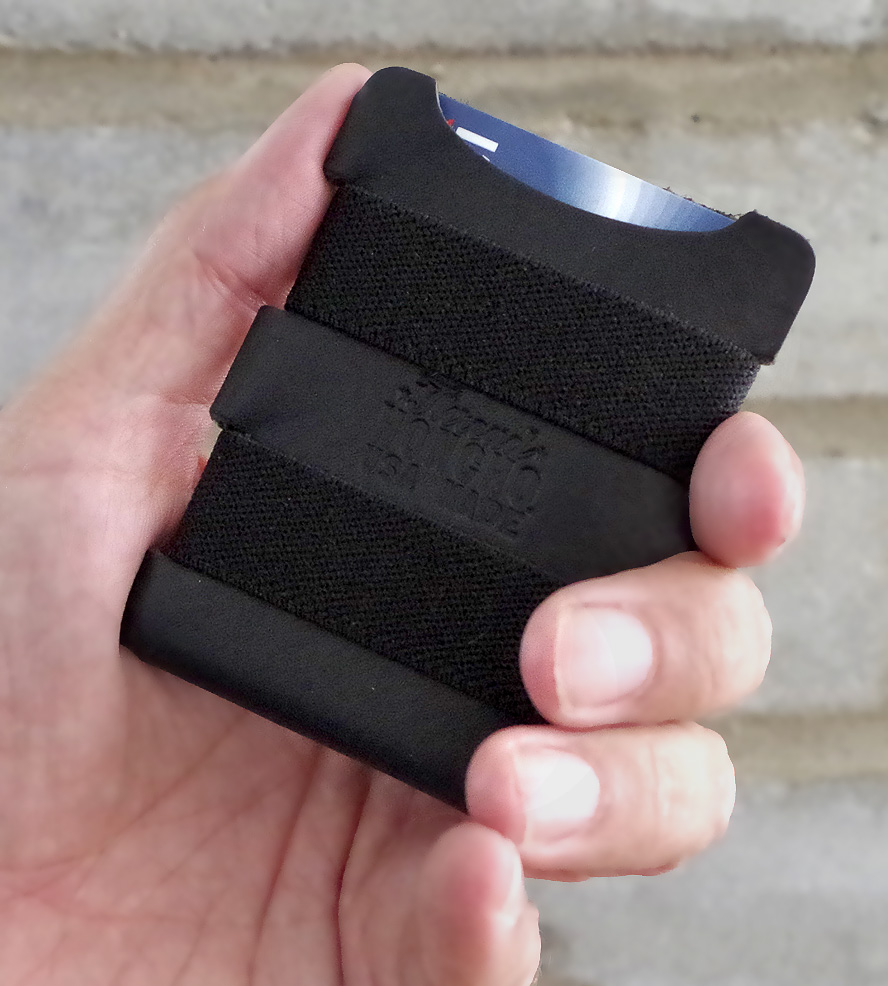monedero: (114, 59, 821, 822)
